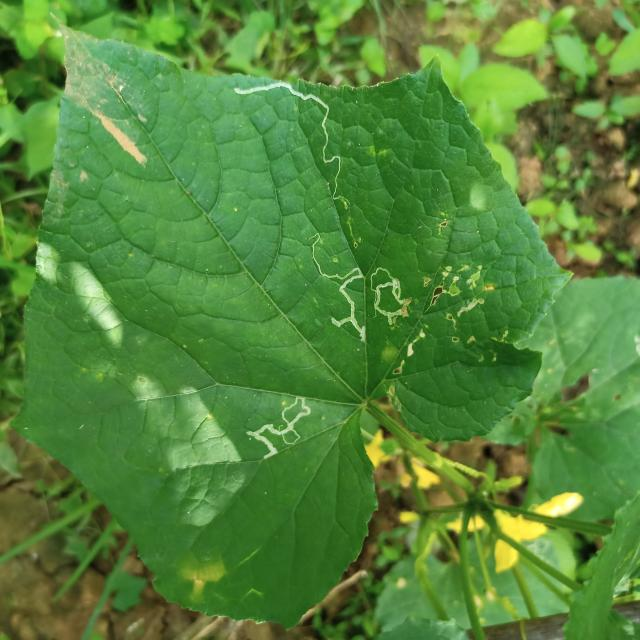disease_cucumber: (176, 556, 229, 606)
